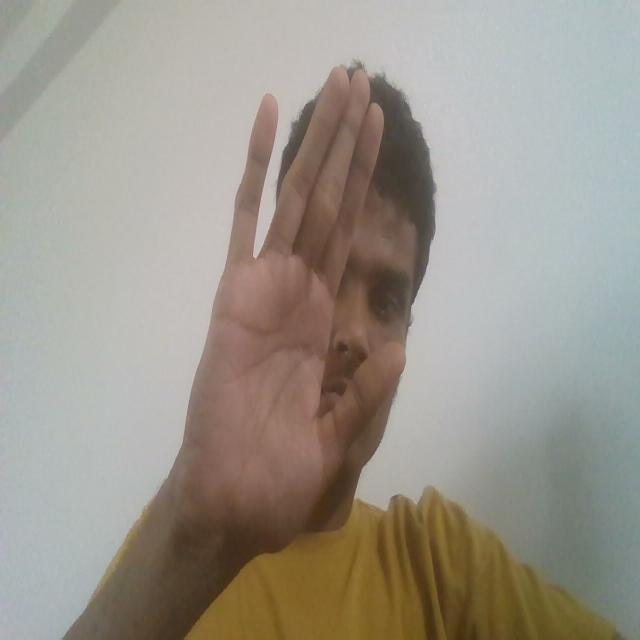Hello: (162, 58, 412, 640)
